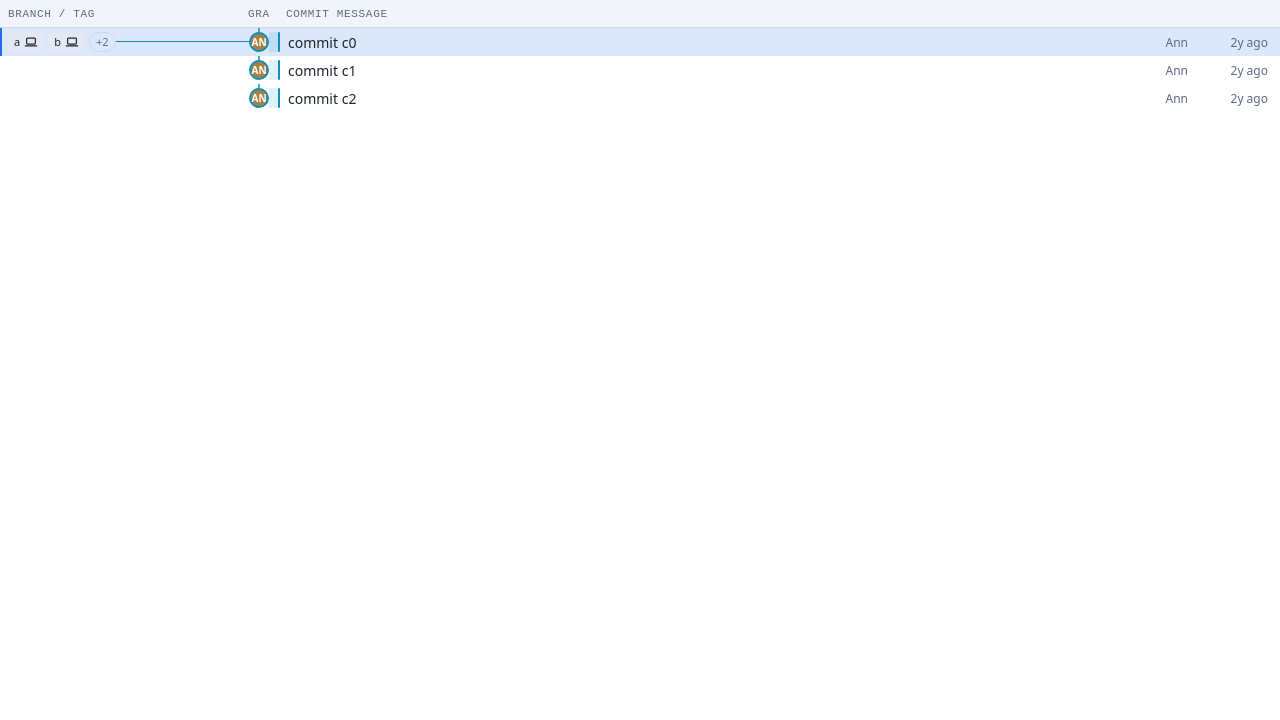
GraphView › many refs › shows two chips and a +N pill that expands and collapses on Escape
Click the button "+2": (102, 42) [89,32,116,52]
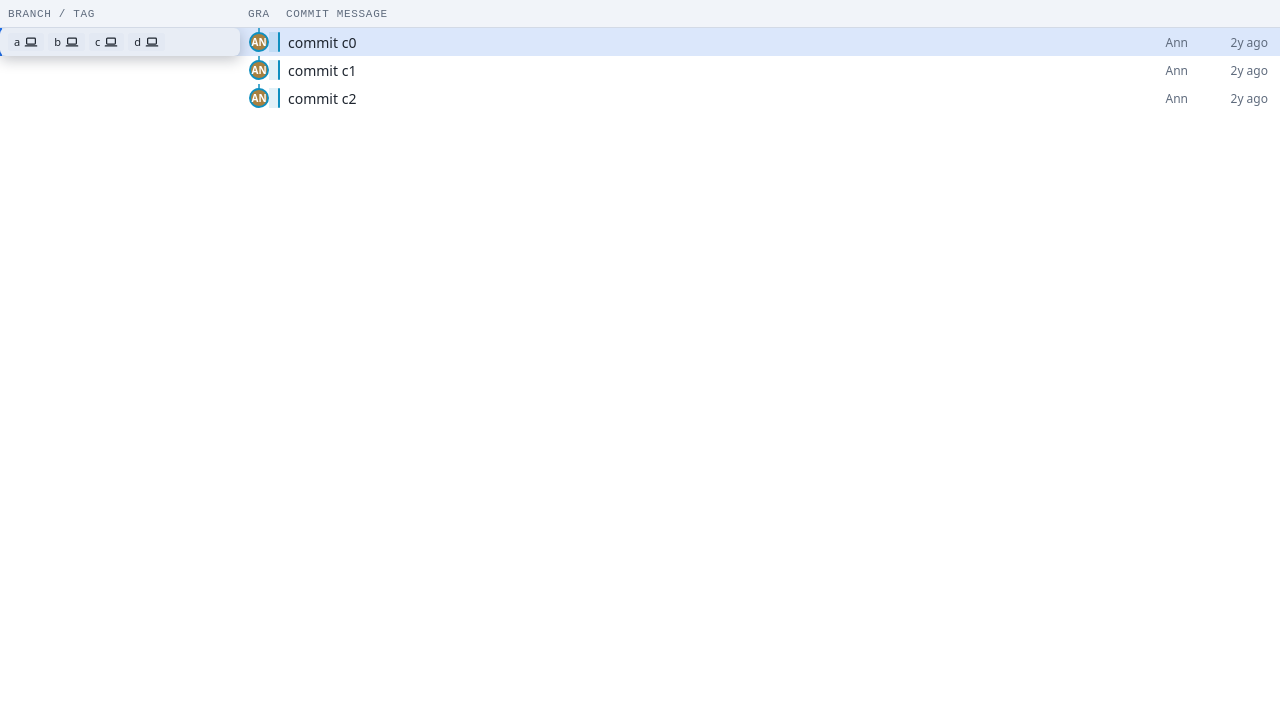
Expected: the text "c" is shown, [95,33,100,51]
Expected: the text "d" is shown, [134,33,141,51]
Press Escape in the list
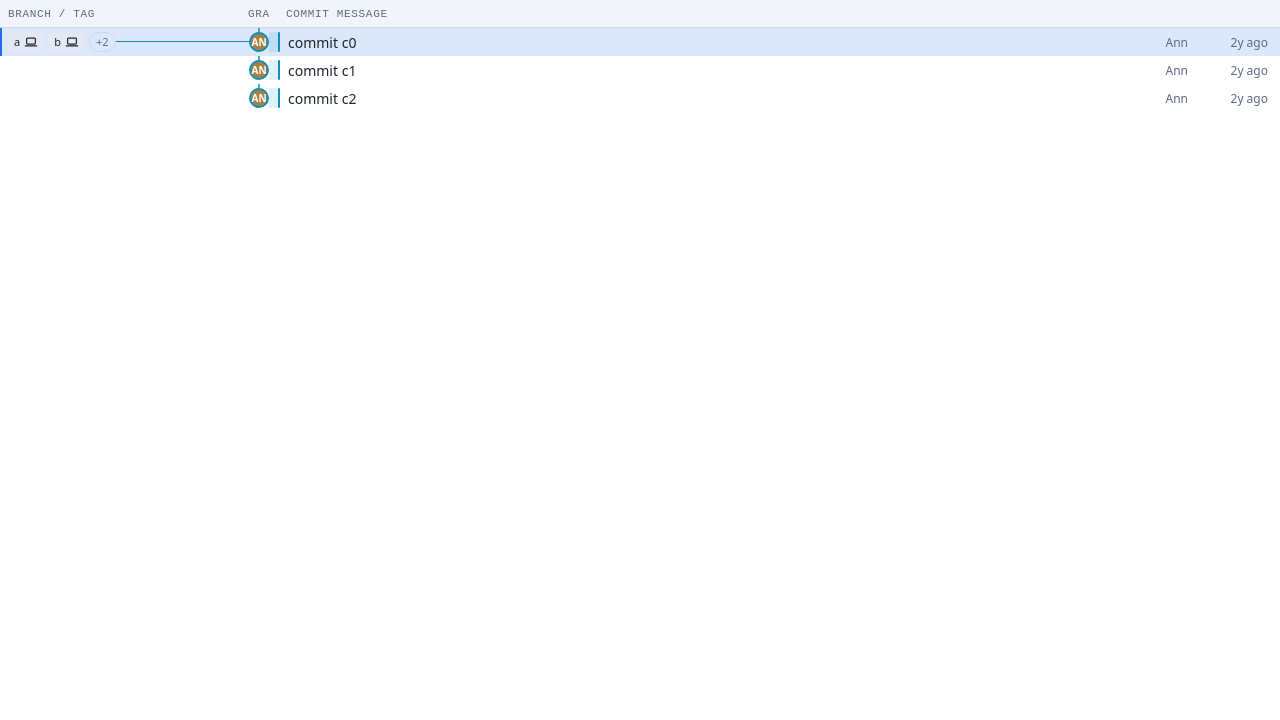
Expected: the text "d" is gone
